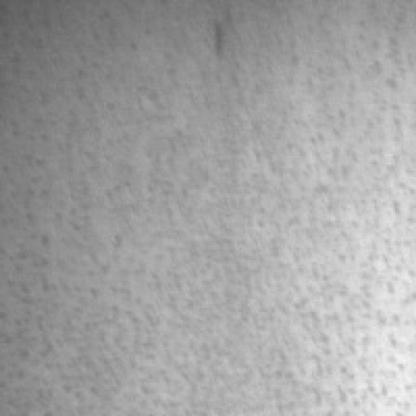pitted_surface: (272, 2, 416, 410), (2, 4, 100, 366)
